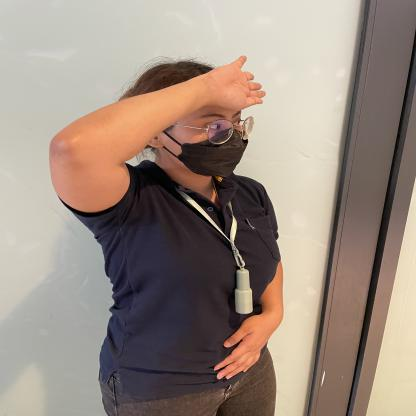Sick: (140, 30, 296, 117)
